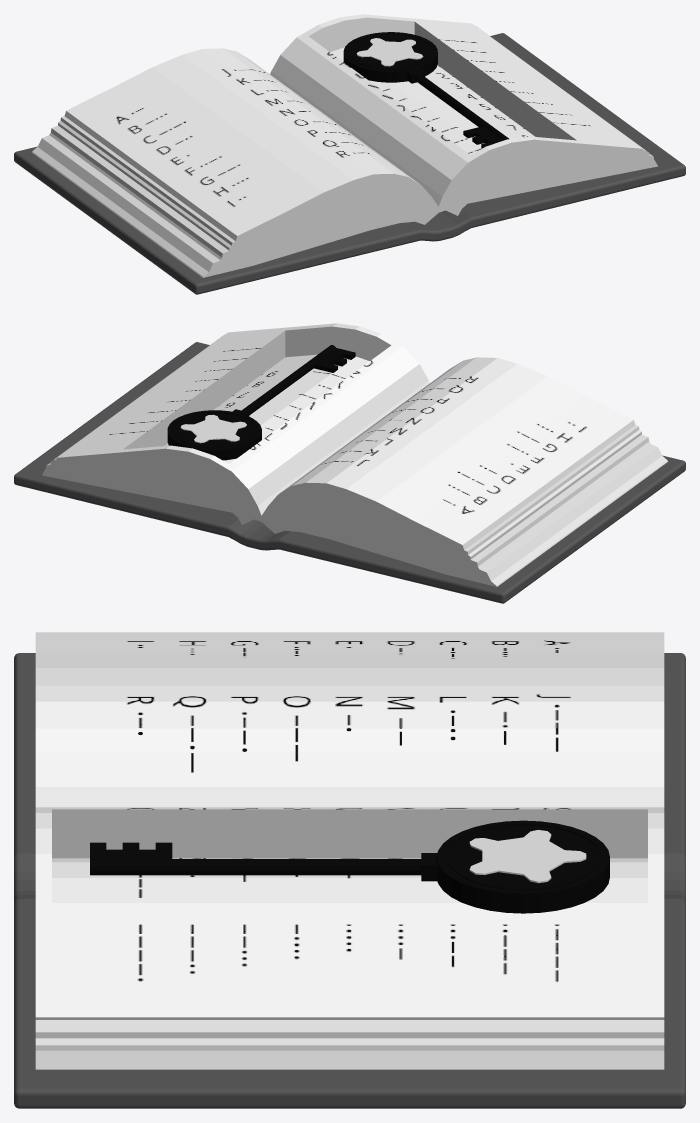
The model's file is spy_book.fbx.
The picture shows the model from 3 angles, top to bottom: view 1: azimuth 30°, elevation 25°; view 2: azimuth 150°, elevation 25°; view 3: azimuth 270°, elevation 25°; orthographic projection. The views are drawn at different scales.
Parts seen in each view (by area): view 1: Livre espion, Circle.001; view 2: Livre espion, Circle.001; view 3: Livre espion, Circle.001.
Boxes of the visible parts, box(x1,y1,x2,y2) form: Livre espion: box(14, 14, 685, 294); Circle.001: box(343, 32, 508, 148); Livre espion: box(14, 323, 685, 603); Circle.001: box(167, 345, 355, 460); Livre espion: box(14, 632, 685, 1108); Circle.001: box(90, 820, 609, 913).
Bounding box in the file's own units: 480 × 72.96 × 310.
